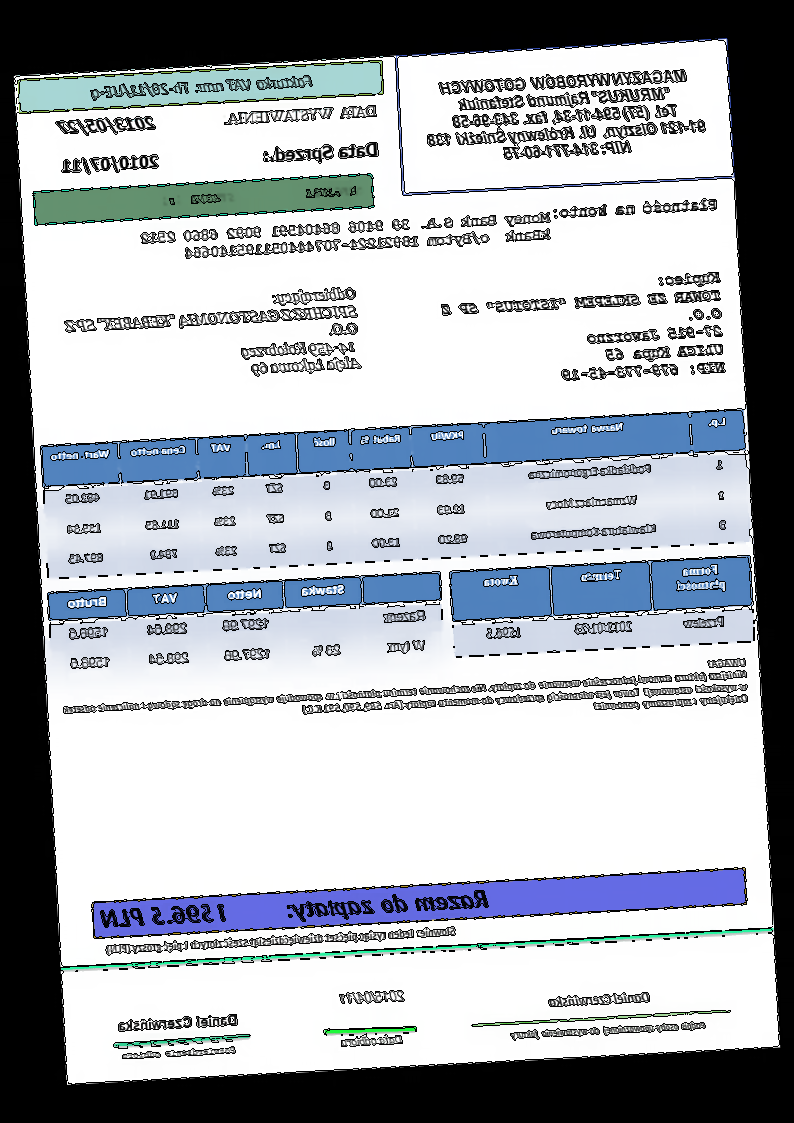Table: (36, 407, 753, 584), (46, 569, 446, 687), (448, 553, 755, 659)
TextBox: (60, 654, 753, 744), (437, 270, 729, 390), (61, 284, 364, 388), (418, 65, 712, 169), (138, 209, 552, 263), (97, 884, 495, 934), (103, 922, 460, 957), (87, 71, 317, 104), (158, 180, 366, 209), (508, 1018, 709, 1044), (221, 100, 380, 130), (549, 194, 722, 221), (261, 138, 381, 166), (116, 1011, 241, 1036), (54, 112, 163, 138), (59, 151, 163, 178), (119, 1042, 241, 1061), (547, 988, 654, 1008), (338, 987, 408, 1006), (338, 1033, 405, 1048)
